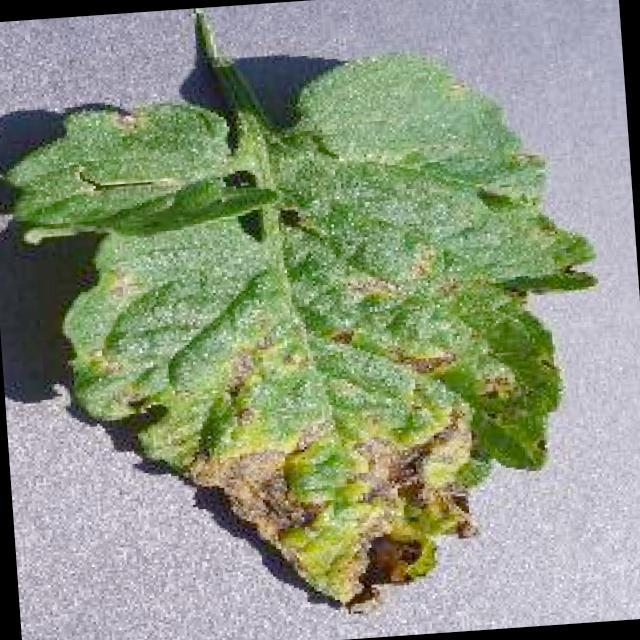Tomato Septoria spot leaf: (0, 48, 620, 640)
